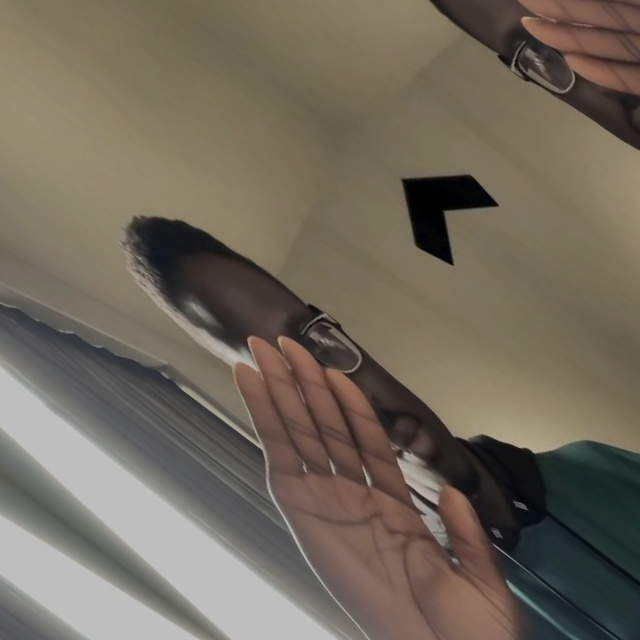Paper: (0, 611, 380, 640)
